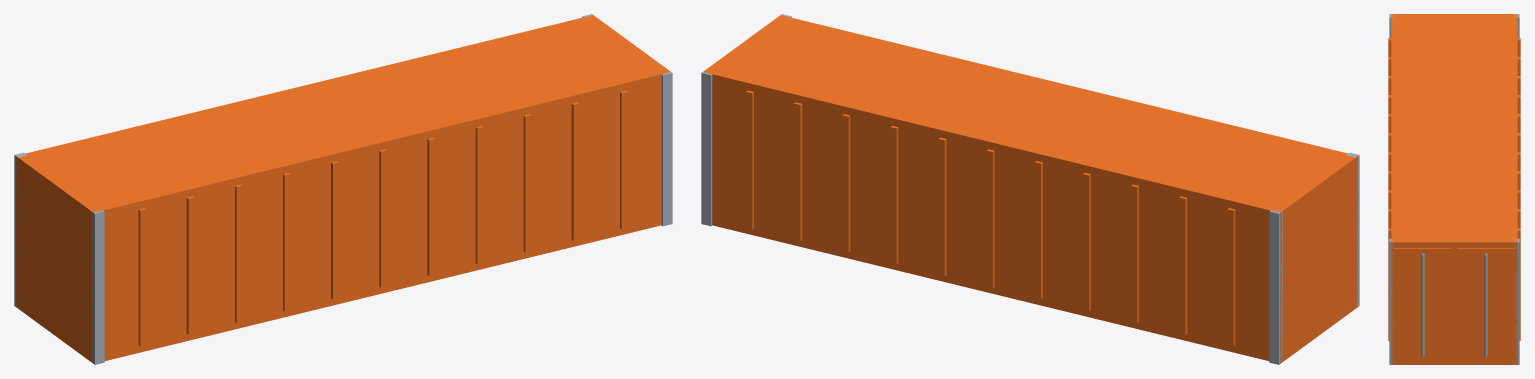
File: shipping_container_papaya.glb
3 renders of one model, left to right at view 1: azimuth 30°, elevation 25°; view 2: azimuth 150°, elevation 25°; view 3: azimuth 270°, elevation 25°, orthographic. The views are drawn at different scales.
Visible parts, largest first — view 1: shipping_container_papaya__static; view 2: shipping_container_papaya__static; view 3: shipping_container_papaya__static.
Part boxes in pixels (bbox=[...]): shipping_container_papaya__static: bbox=[14, 14, 672, 364]; shipping_container_papaya__static: bbox=[701, 14, 1359, 364]; shipping_container_papaya__static: bbox=[1388, 14, 1520, 364].
Bounding box in the file's own units: 12.1 × 3 × 2.93.
